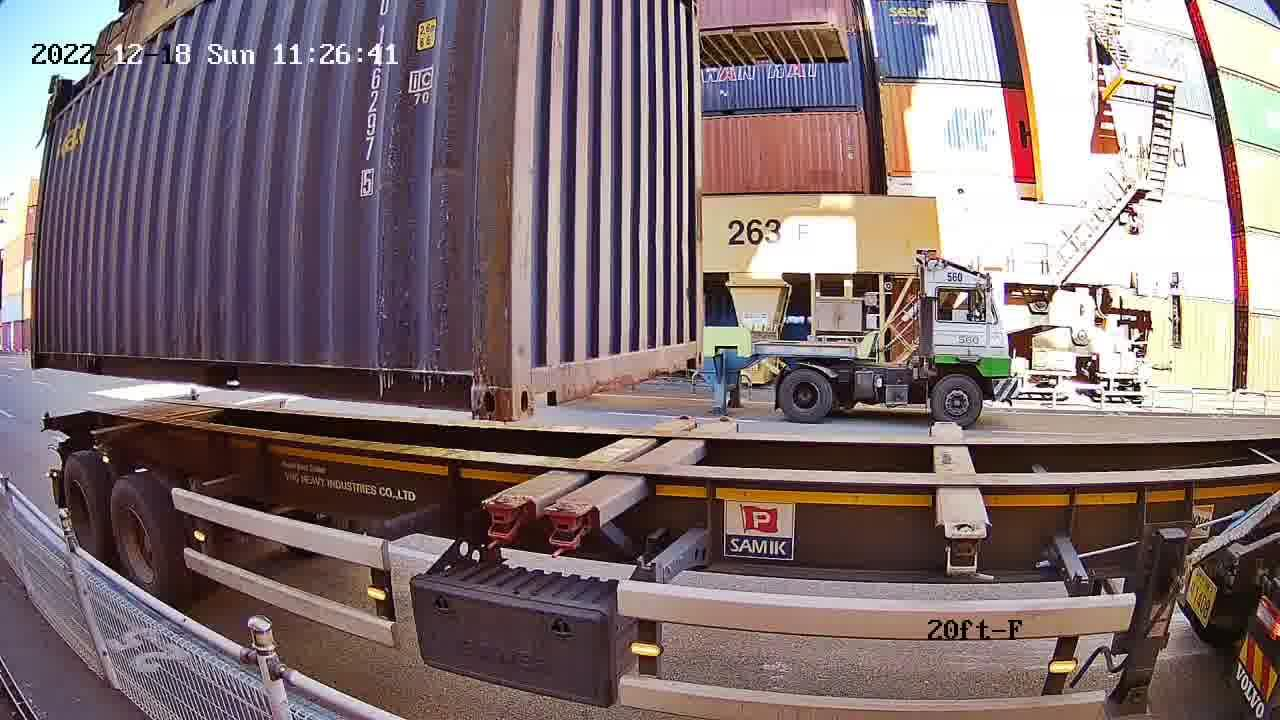Chassis: (484, 418, 695, 506), (546, 419, 736, 510)
Cone: (541, 504, 589, 563), (482, 497, 527, 552)
Hole_L: (512, 345, 568, 420)
Hole_R: (440, 349, 512, 420), (679, 331, 705, 371)
Tire: (110, 480, 168, 597), (63, 458, 107, 567)
